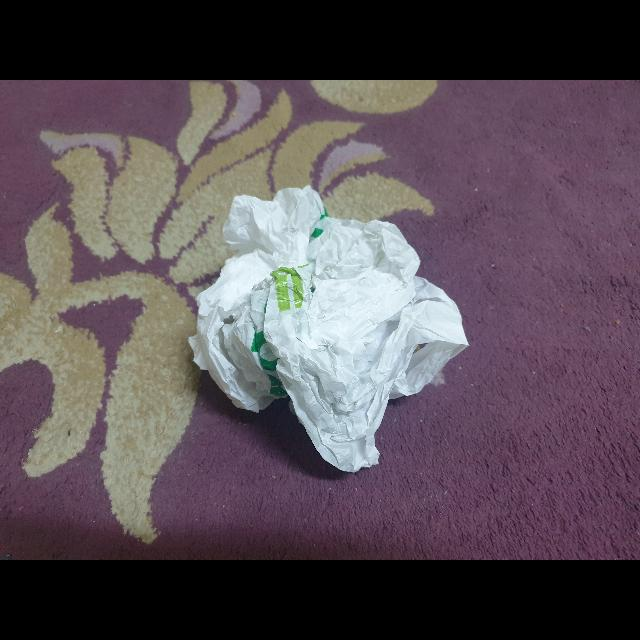plastic_bag: (179, 178, 479, 482)
